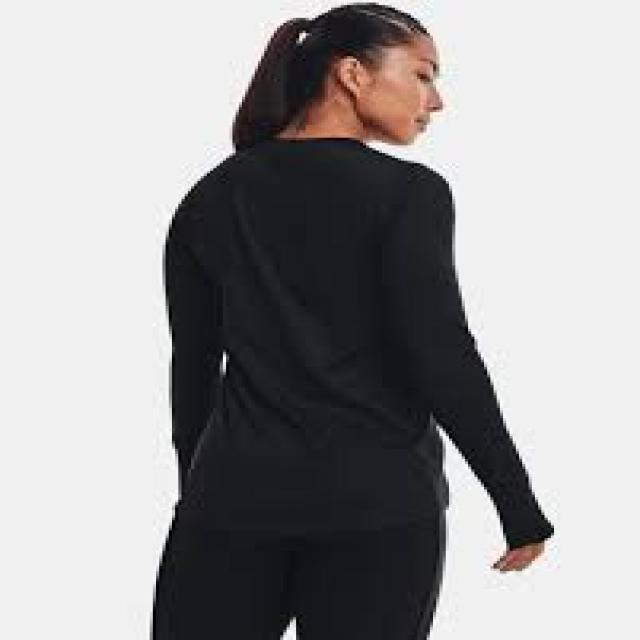plain: (150, 125, 538, 546)
